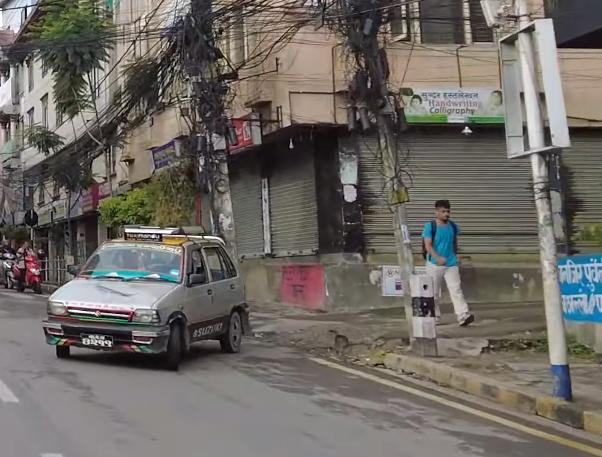taxi: (35, 217, 255, 365)
